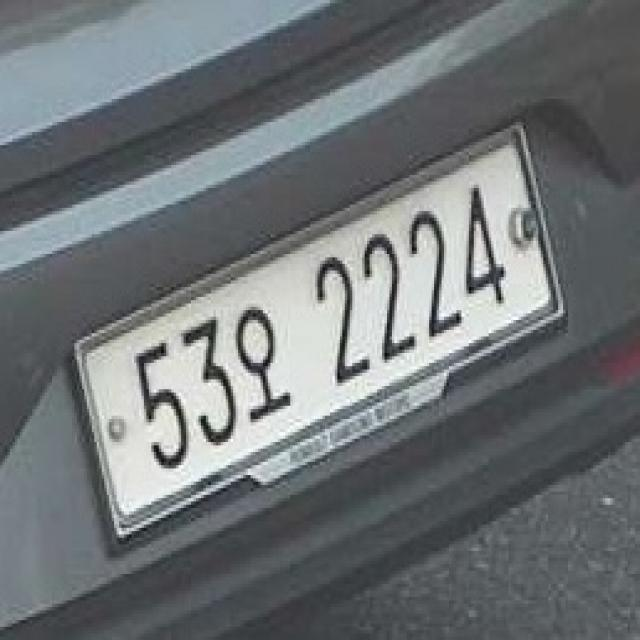2: (312, 255, 368, 392), (404, 212, 464, 337), (360, 232, 414, 364)
3: (176, 314, 238, 456)
4: (462, 186, 511, 312)
5: (129, 344, 187, 472)
license_plate: (54, 98, 588, 574)
o: (234, 304, 300, 422)
